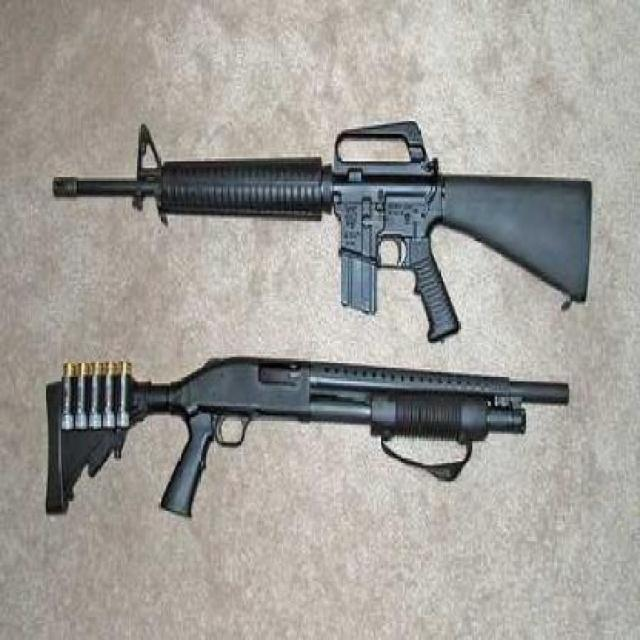weapon: (56, 118, 580, 330), (35, 350, 565, 526)
